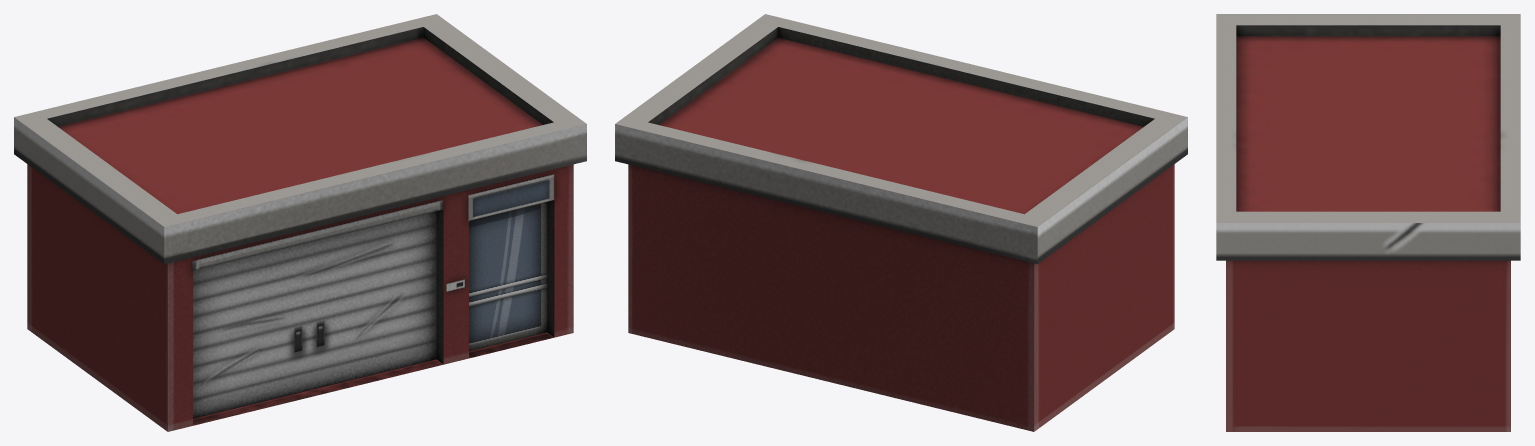
File: House_Base.FBX
3 views of the same model, side by side, from view 1: azimuth 30°, elevation 25°; view 2: azimuth 150°, elevation 25°; view 3: azimuth 270°, elevation 25° (orthographic).
Parts seen in each view (by area): view 1: GarageWithDoor; view 2: GarageWithDoor; view 3: GarageWithDoor.
Part boxes in pixels (box(x1,y1,x2,y2)): GarageWithDoor: box(14, 14, 586, 431); GarageWithDoor: box(615, 14, 1187, 431); GarageWithDoor: box(1216, 14, 1520, 431).
Bounding box in the file's own units: 521 × 248 × 321.
